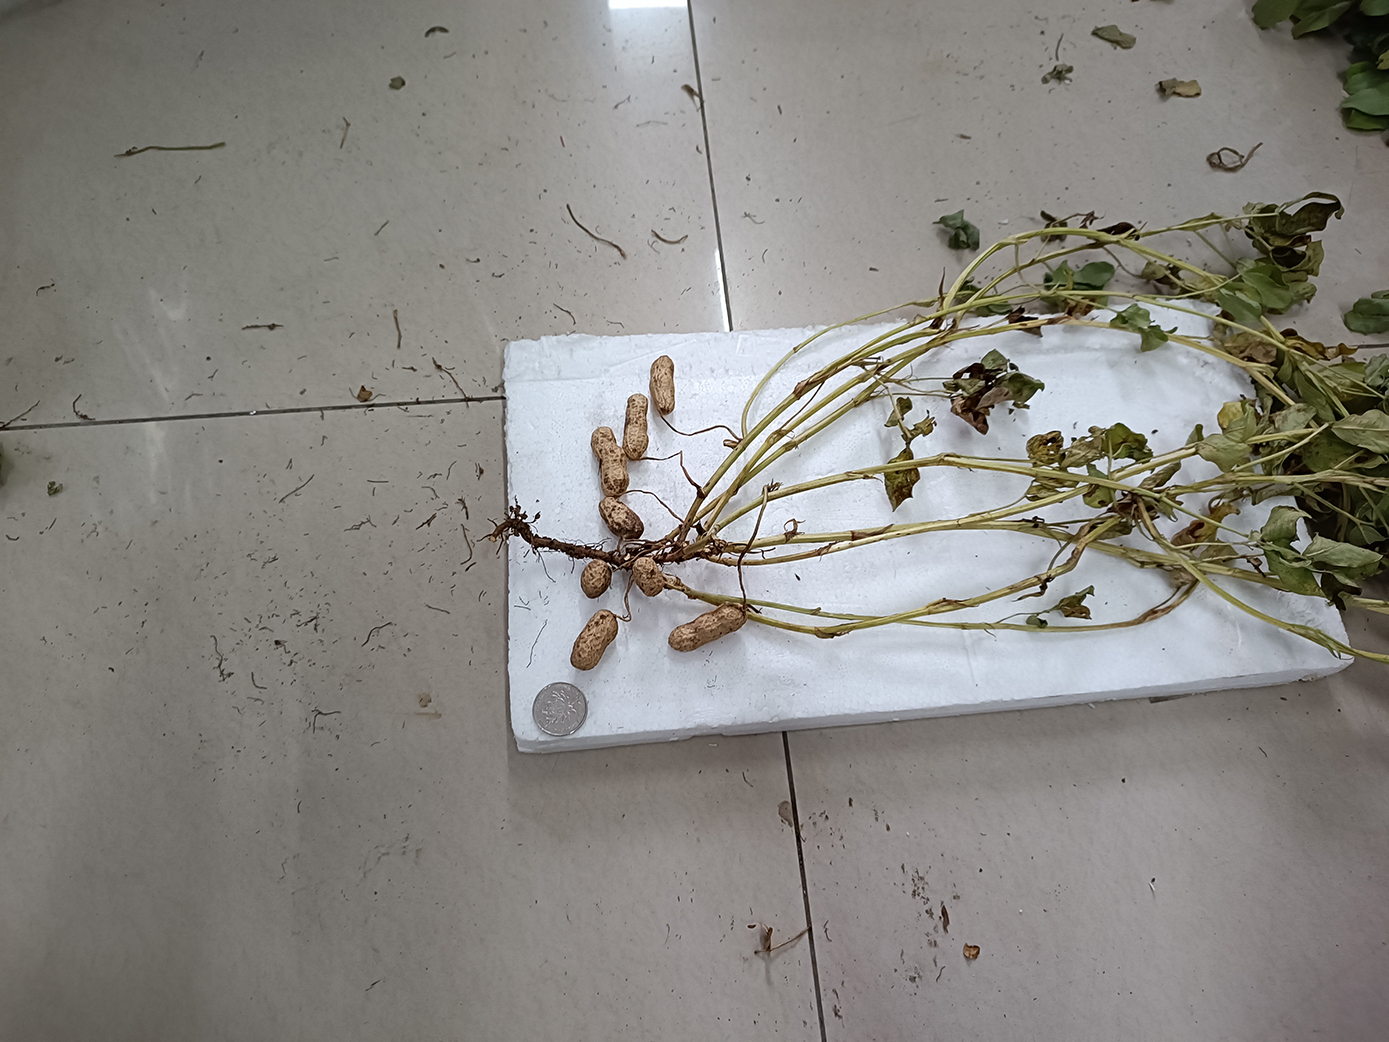h: (667, 602, 746, 653), (570, 610, 620, 671), (590, 428, 629, 497), (599, 497, 644, 540), (622, 392, 649, 460), (650, 354, 676, 413), (632, 557, 665, 597), (581, 557, 613, 597)
